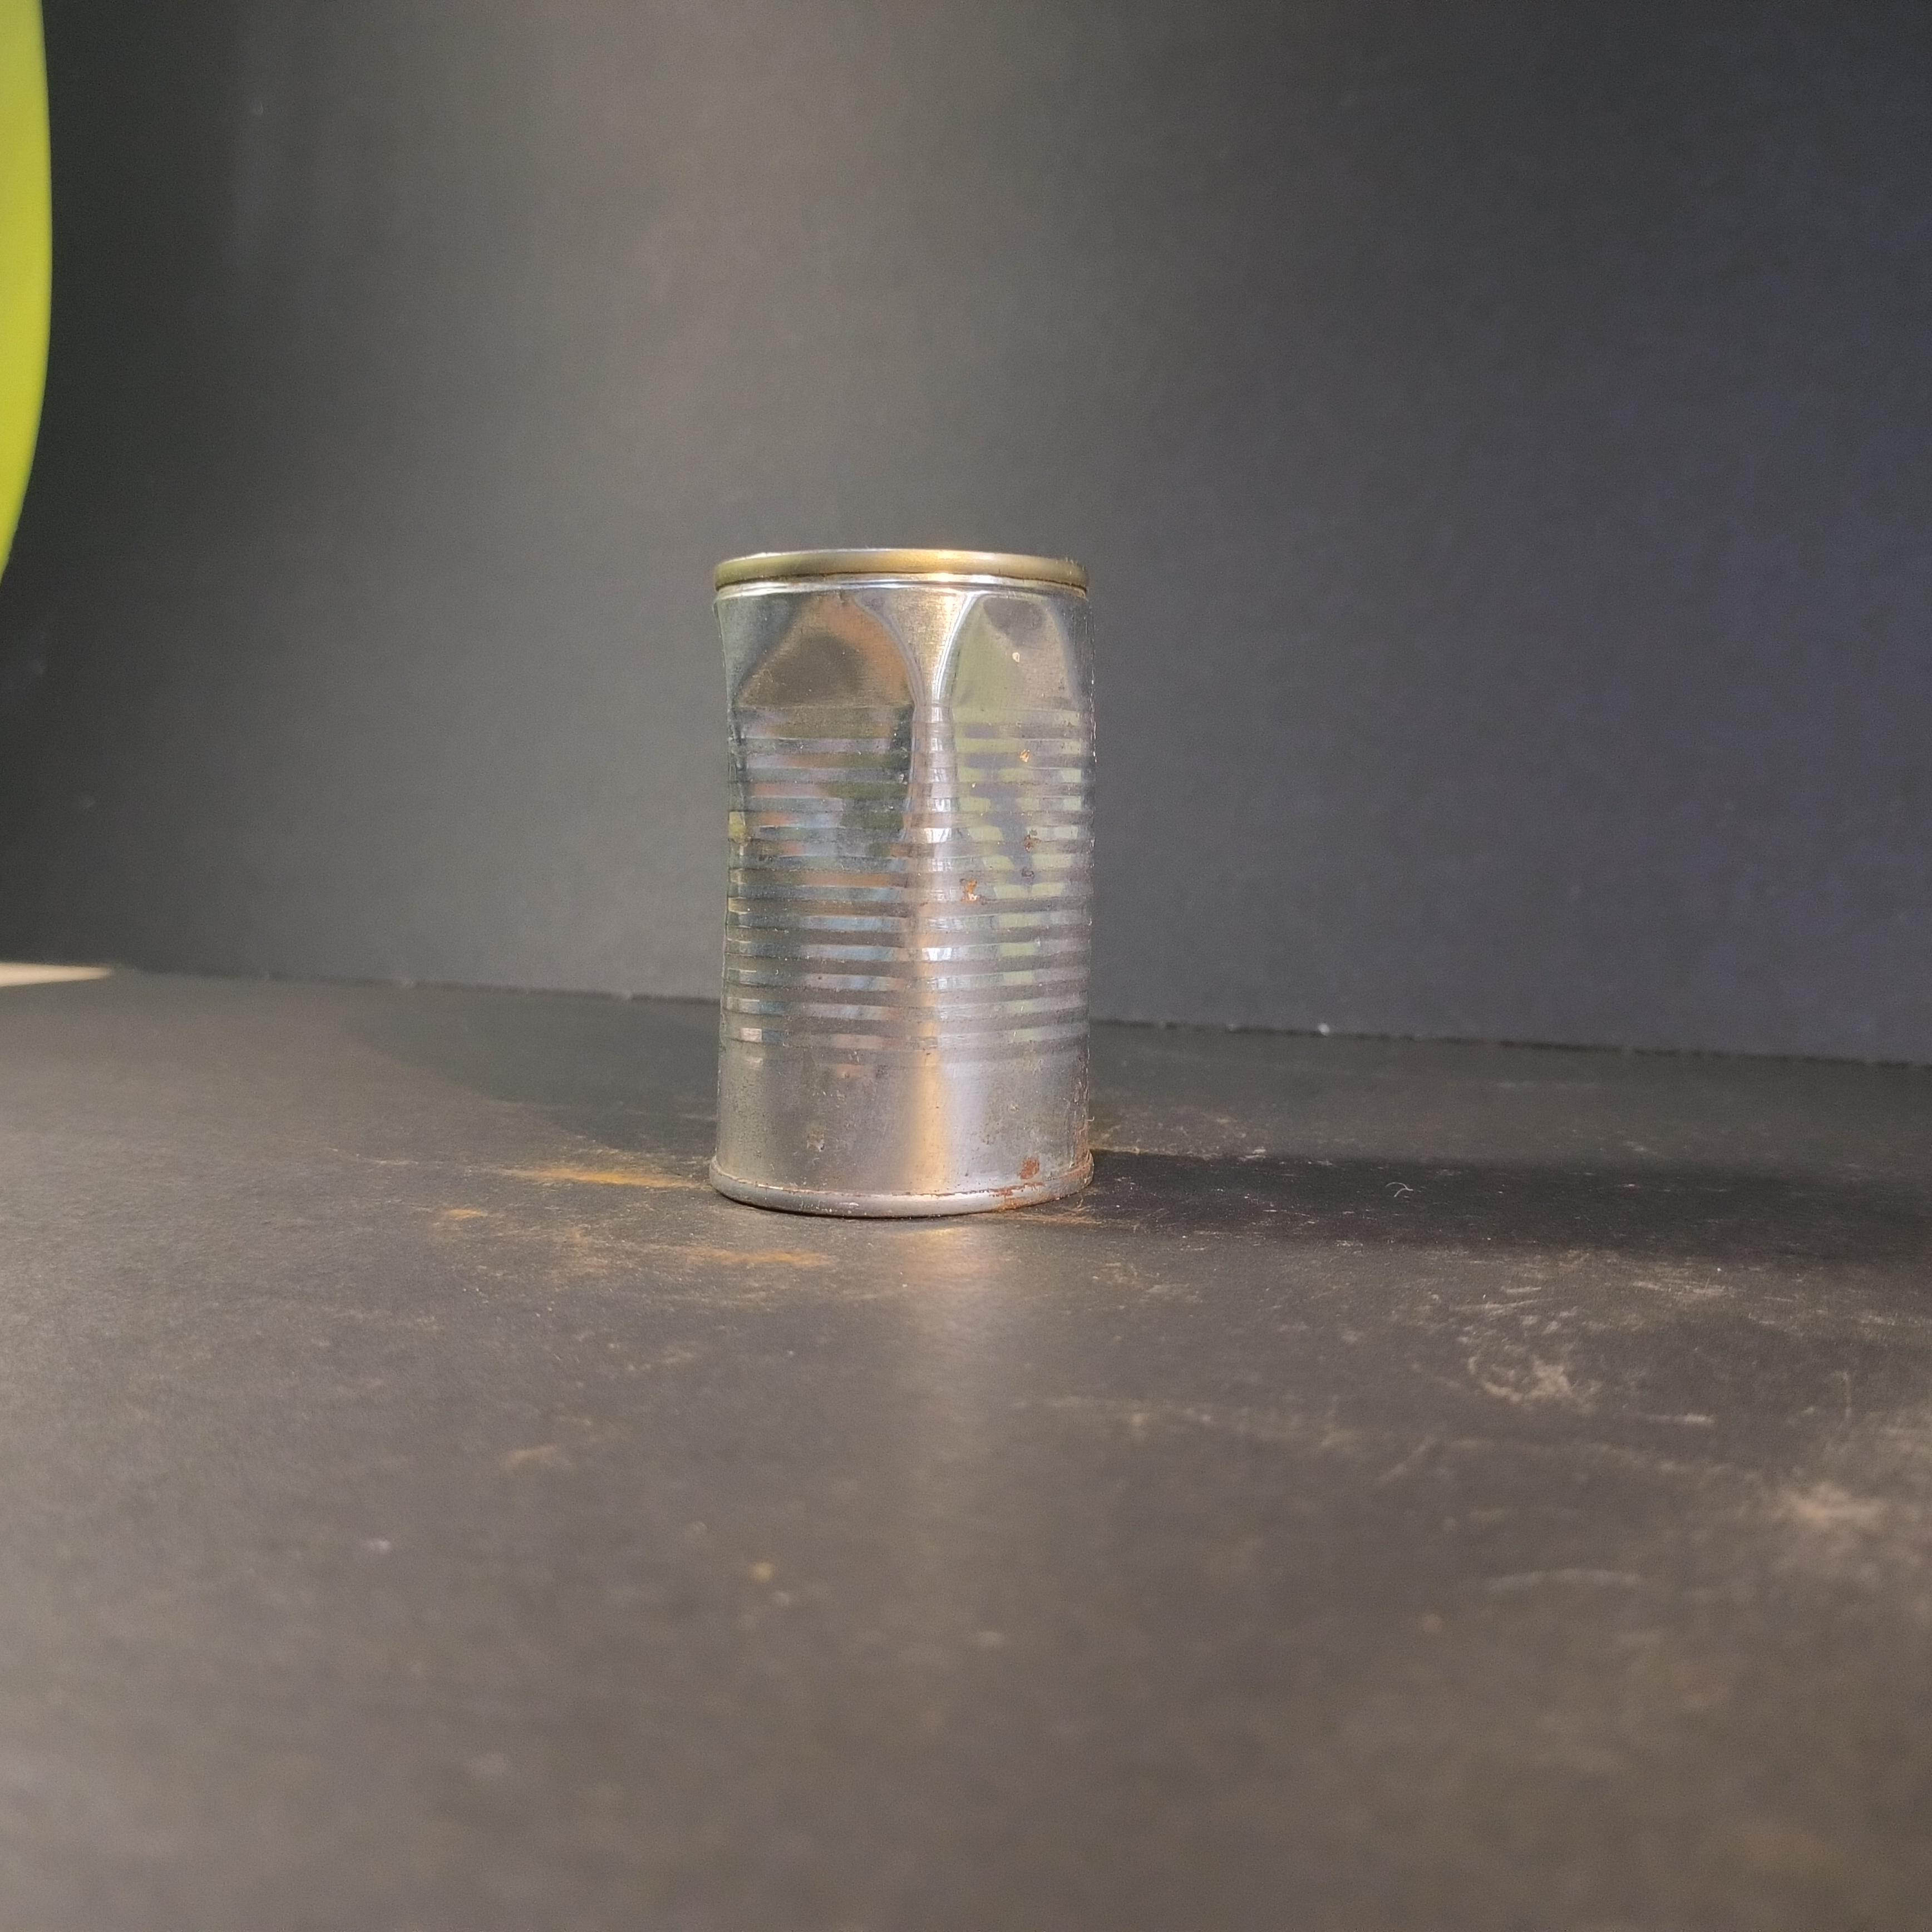Minor Defect: (713, 548, 1096, 1219)
